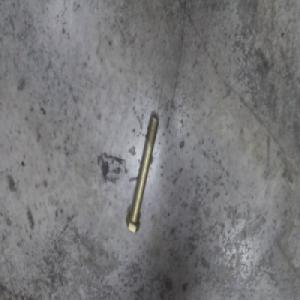Bolt: (125, 115, 159, 232)
